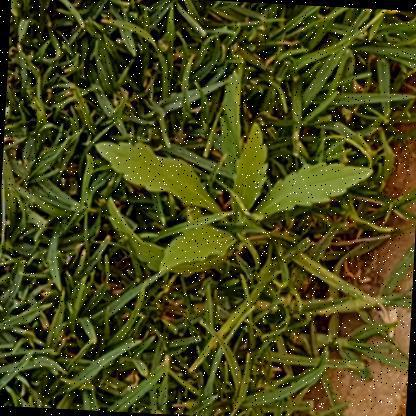Weeds: (90, 114, 375, 285)
